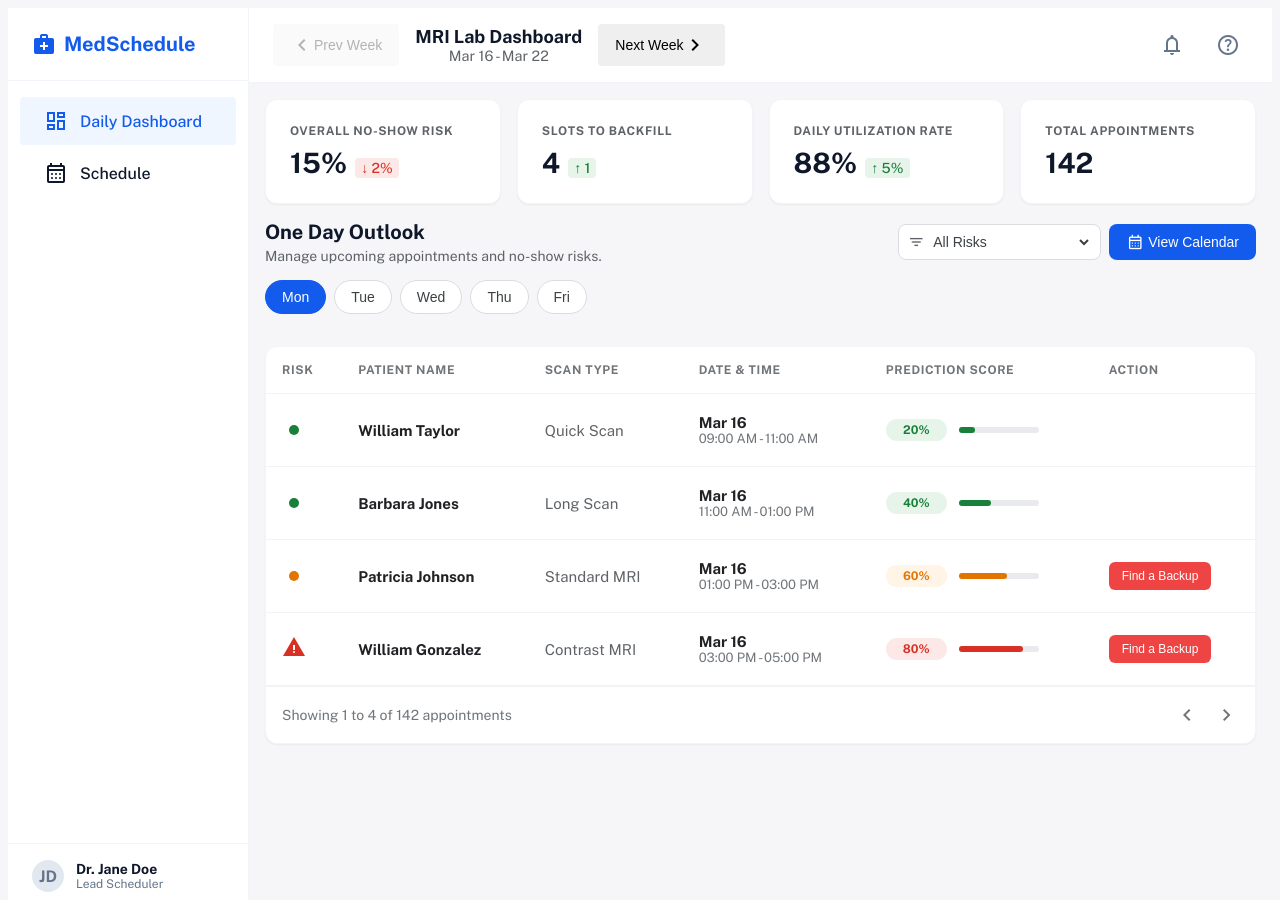
toggles to Schedule view
The width and height of the screenshot is (1280, 900).
# Click the Schedule link in the Sidebar
Click the text "Schedule" at (97, 173), box [44,159,150,187]
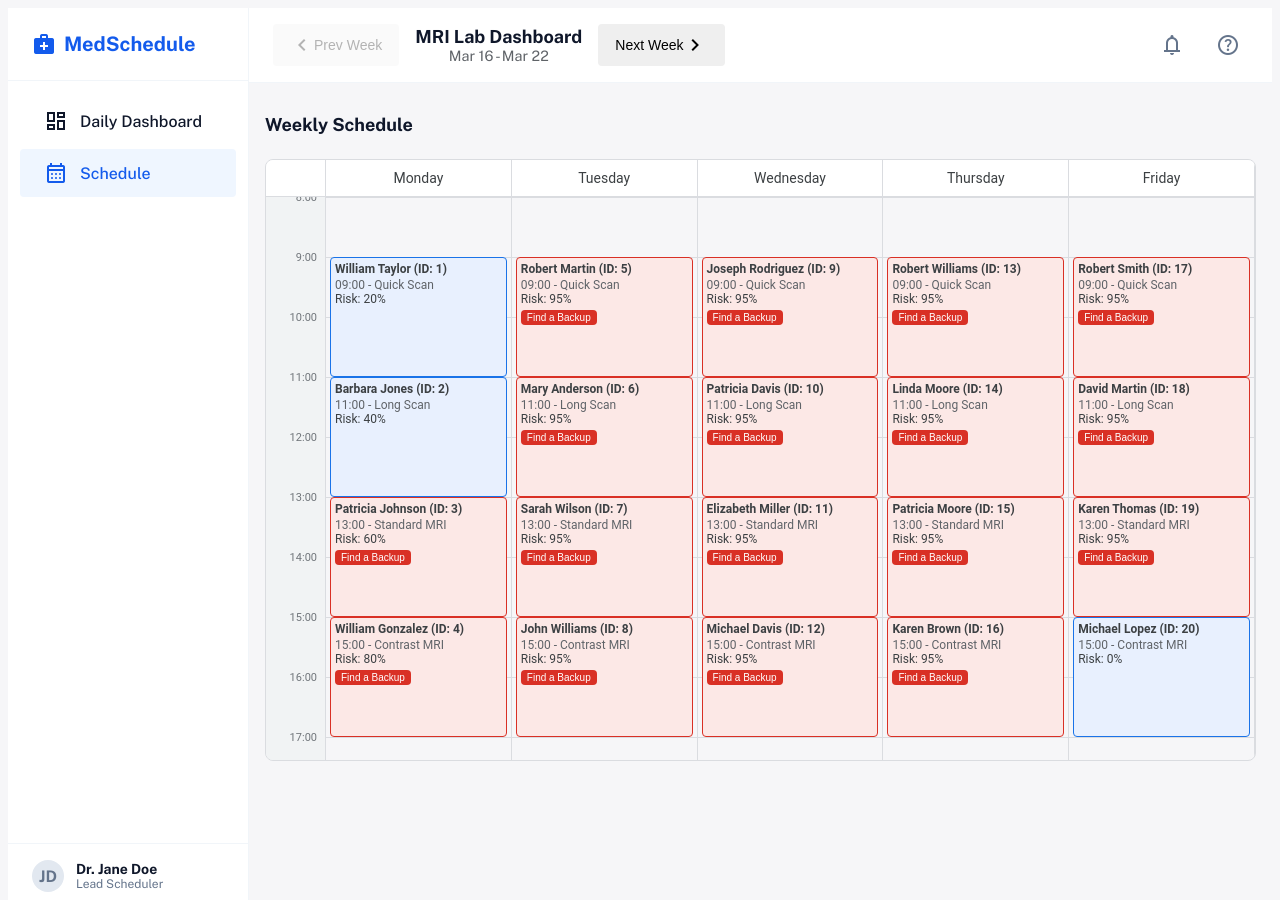
Expected: the heading "One Day Outlook" is gone
Expected: the text "Monday" is shown, [326,160,512,196]
